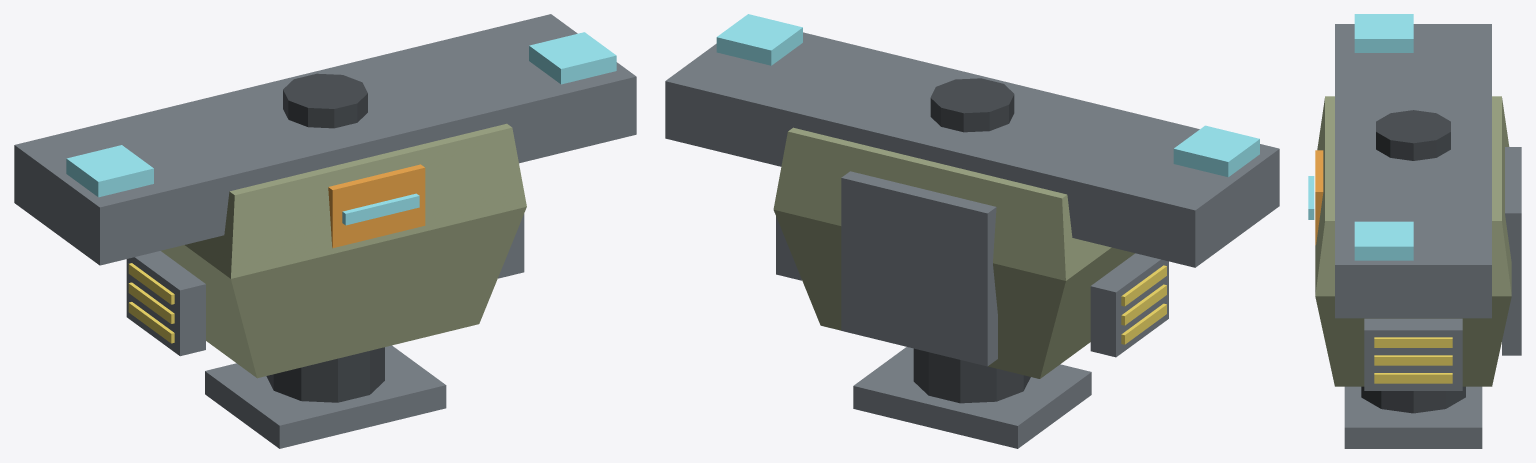
File: mod-line-mech-body-body.glb
The picture shows the model from 3 angles, left to right: view 1: azimuth 30°, elevation 25°; view 2: azimuth 150°, elevation 25°; view 3: azimuth 270°, elevation 25°; orthographic projection. The views are drawn at different scales.
Size of the model in its own units: 12.22 by 6.75 by 4.57.
